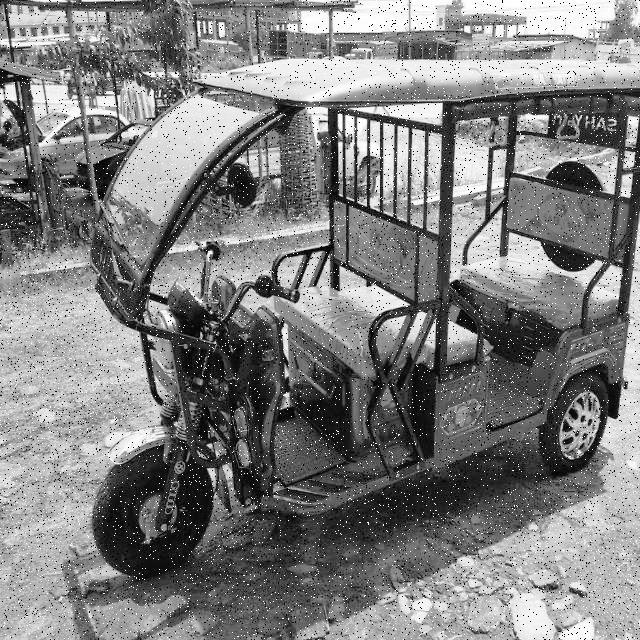Toto: (85, 44, 639, 578)
